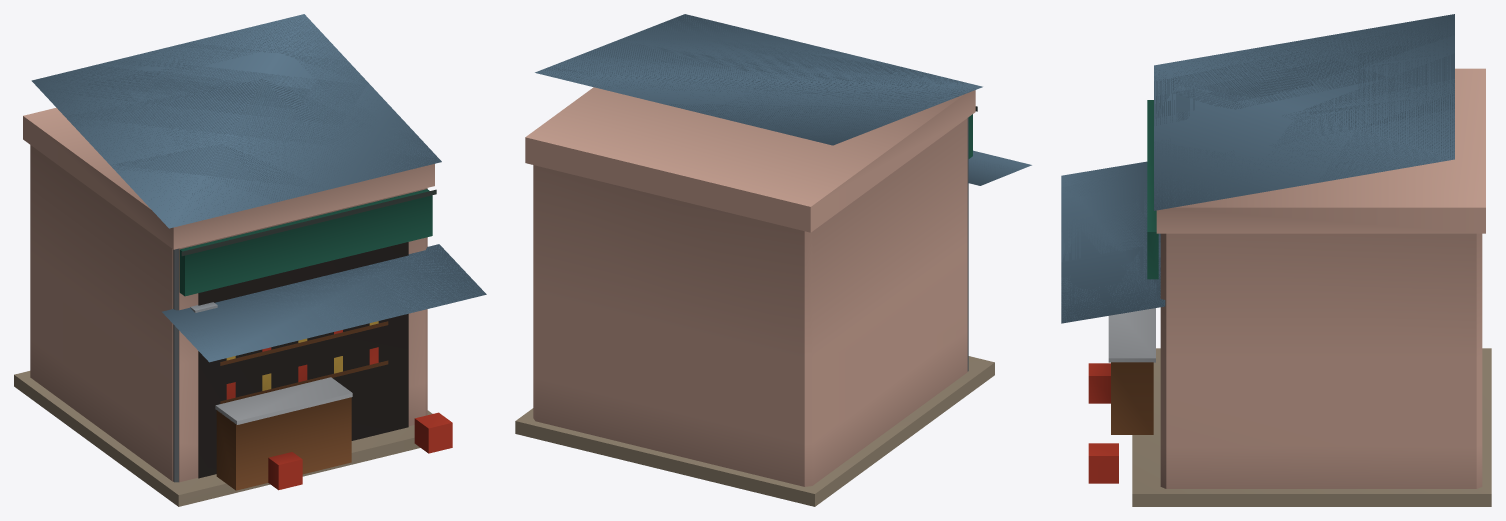
Rendered from tiem-tap-hoa.glb.
3 renders of one model, left to right at view 1: azimuth 30°, elevation 25°; view 2: azimuth 150°, elevation 25°; view 3: azimuth 270°, elevation 25°, orthographic. The views are drawn at different scales.
Visible parts, largest first — view 1: tiem-tap-hoa; view 2: tiem-tap-hoa; view 3: tiem-tap-hoa.
Part boxes in pixels (x1,y1,x2,y2): tiem-tap-hoa: [14, 14, 486, 506]; tiem-tap-hoa: [515, 14, 1031, 506]; tiem-tap-hoa: [1061, 14, 1491, 506].
Size of the model in its own units: 3.7 by 4.05 by 4.55.
